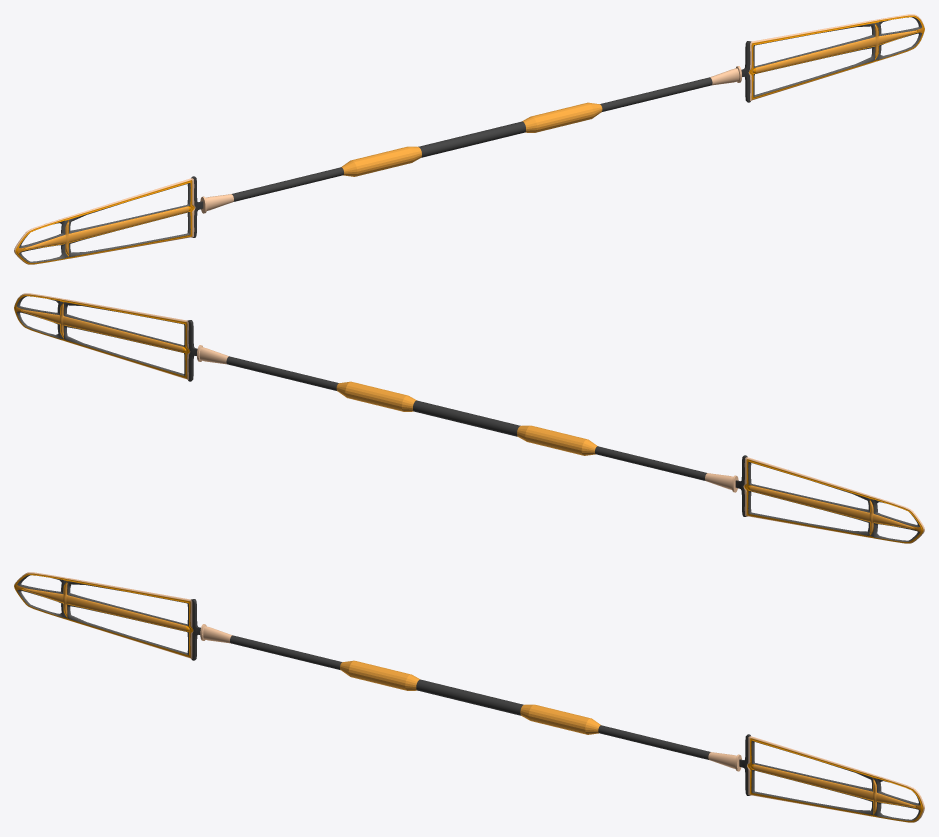
Rendered from DoomStaff.fbx.
3 renders of one model, top to bottom at view 1: azimuth 30°, elevation 25°; view 2: azimuth 150°, elevation 25°; view 3: azimuth 330°, elevation 25°, orthographic.
Parts seen in each view (by area): view 1: pCube3; view 2: pCube3; view 3: pCube3.
Boxes of the visible parts, bbox=[...] form: pCube3: bbox=[14, 14, 924, 264]; pCube3: bbox=[14, 293, 924, 543]; pCube3: bbox=[14, 572, 924, 822].
Bounding box in the file's own units: 5209 × 330 × 84.75.
